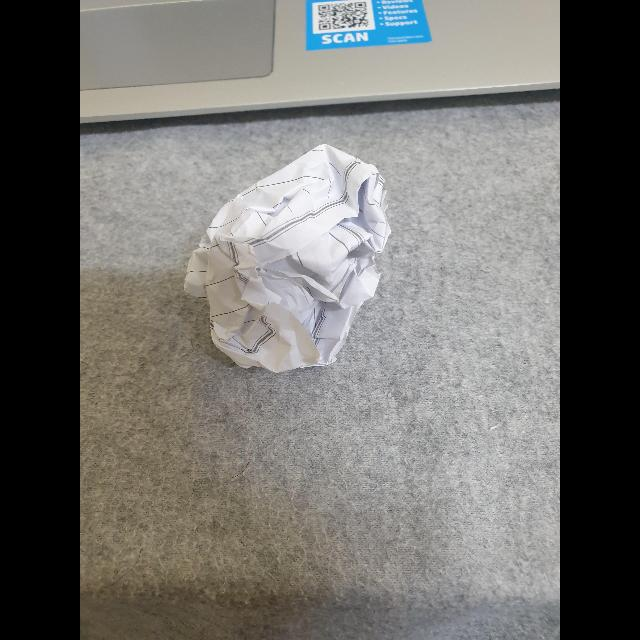scrap_paper: (174, 135, 400, 393)
